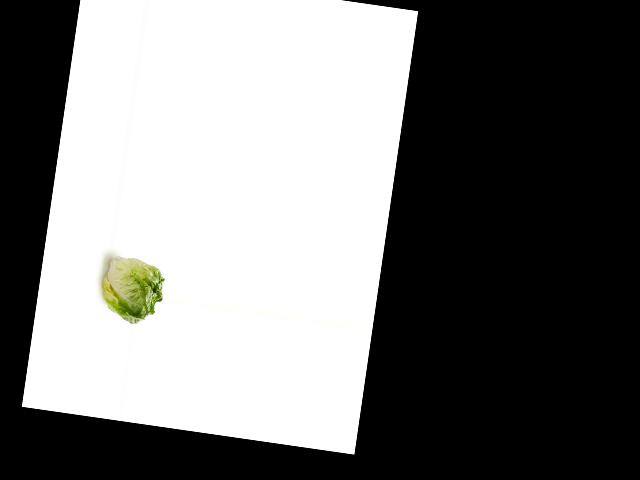lettuce: (98, 250, 170, 331)
